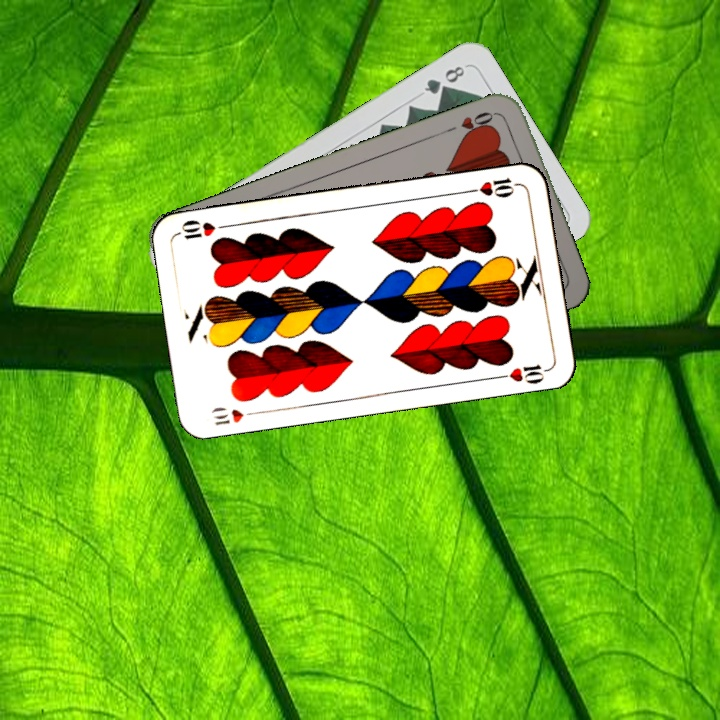G8: (420, 61, 468, 97)
H10: (464, 174, 523, 200), (207, 403, 262, 428)
HO: (442, 107, 500, 141)
